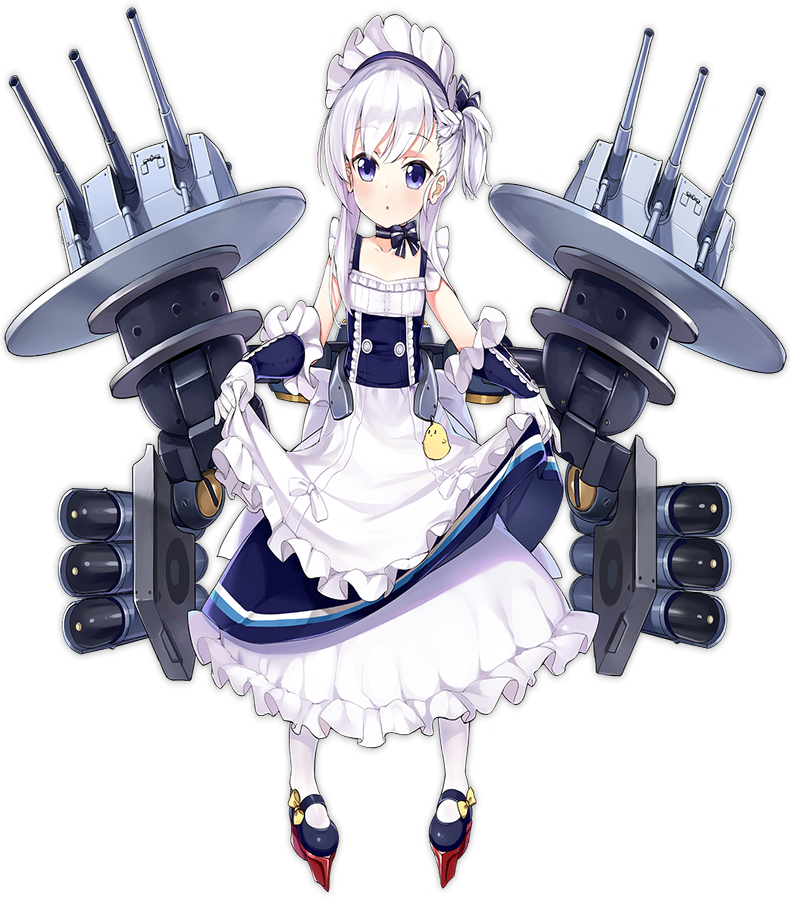person: (81, 2, 768, 899)
